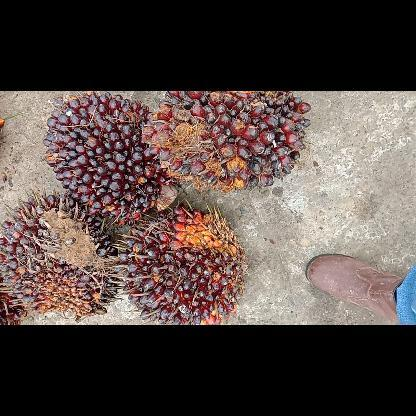Kurang masak: (40, 91, 184, 227), (140, 90, 314, 196), (0, 191, 122, 324), (113, 206, 249, 324)
